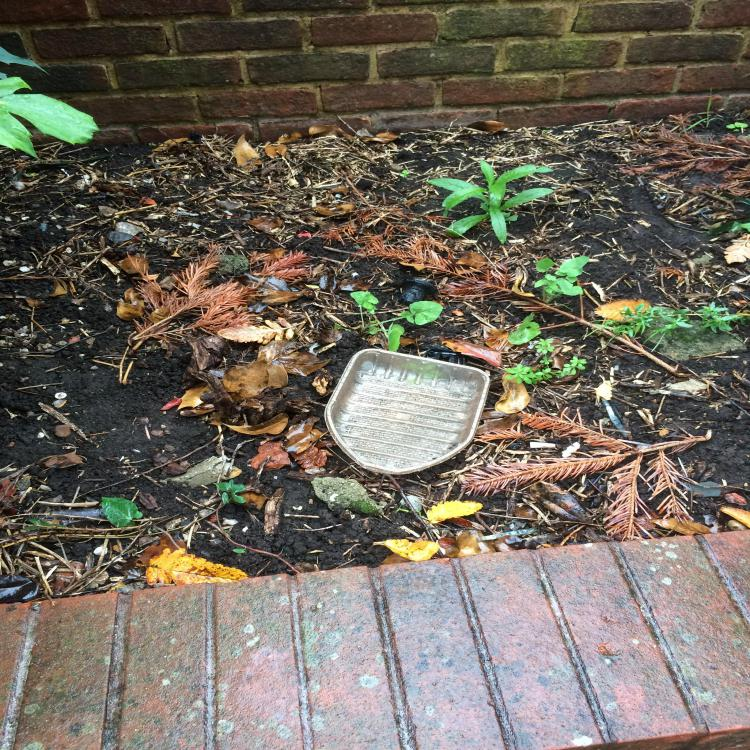Other plastic wrapper: (398, 278, 437, 306), (421, 347, 468, 366)
Plastic film: (600, 398, 630, 437), (476, 528, 536, 542)
